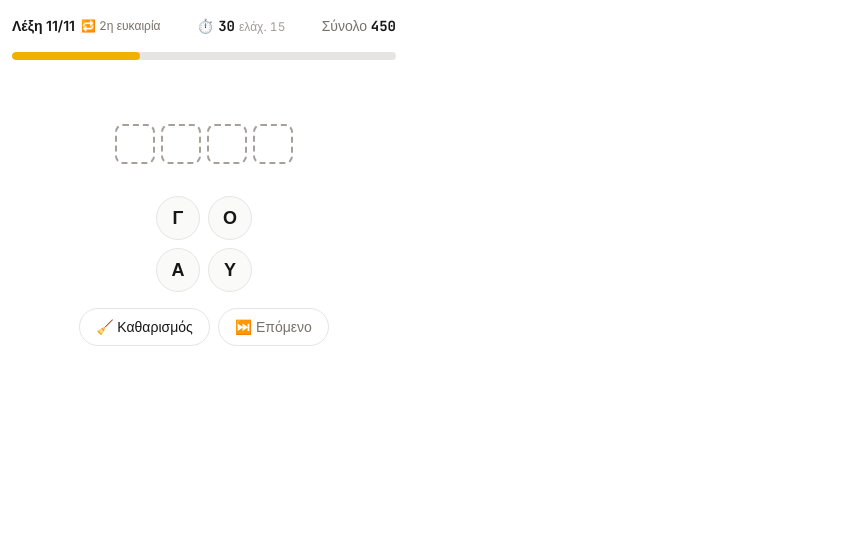
Test case: LeksodromiaBoard › a skipped word comes back as a second chance and can then be skipped for good
This screenshot has width=861, height=555.
Expected: the text "🔁 2η ευκαιρία" is shown, top-left (81, 18), bottom-right (160, 34)
Expected: the text "Λέξη 11/11 🔁 2η ευκαιρία" is shown, top-left (12, 16), bottom-right (160, 36)
Click the button "⏭️ Επόμενο": (273, 327) top-left (218, 308), bottom-right (329, 346)
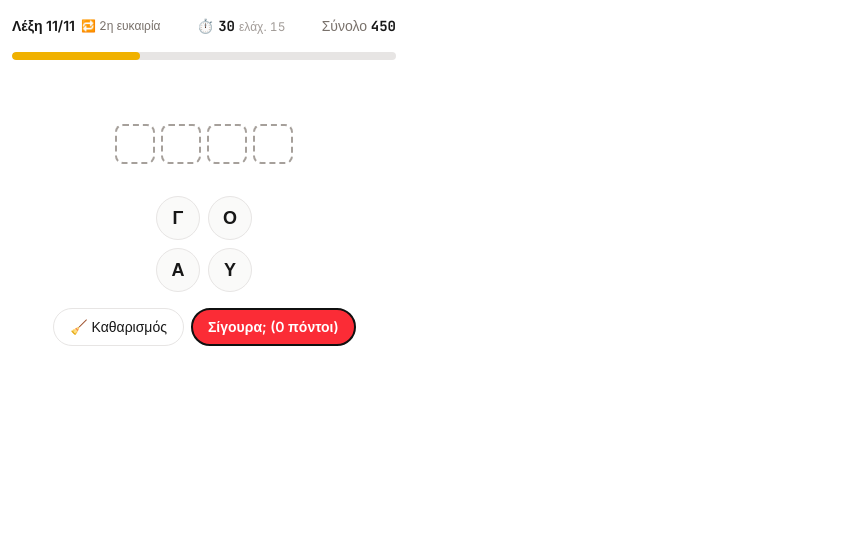
Click the button "Σίγουρα; (0 πόντοι)": (273, 327) top-left (192, 309), bottom-right (355, 345)
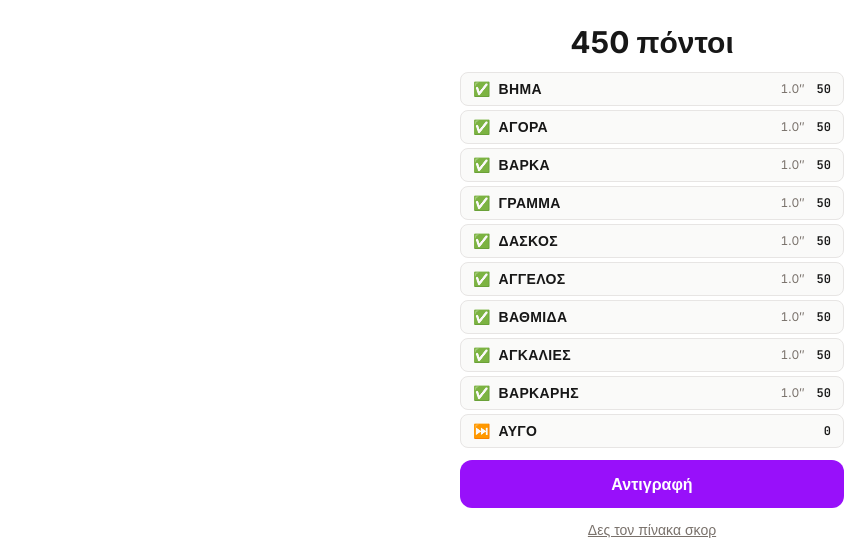
Expected: the element with test id "round-recap" is shown, top-left (460, 72), bottom-right (844, 448)
